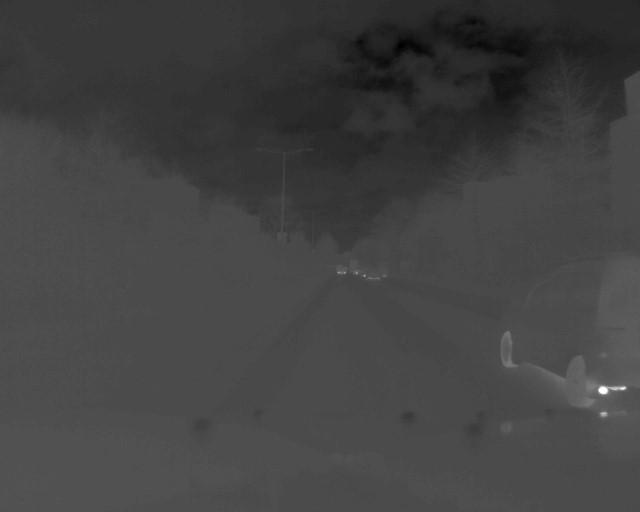car: (492, 268, 640, 407), (361, 266, 381, 283)
